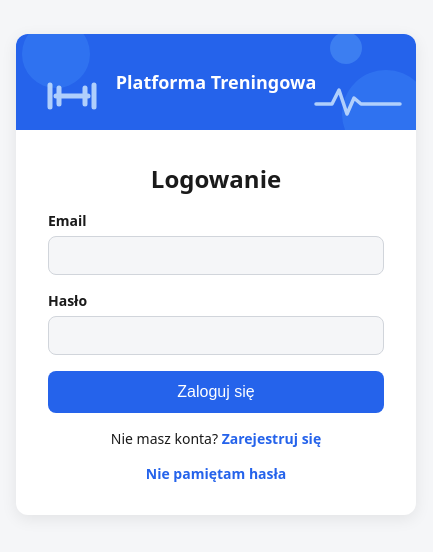
Test: LoginPage › przy 403 informuje o nieaktywnym koncie
The image size is (433, 552).
Step 1. Type "jan@example.com" into the field labelled "Email" → x=216, y=255, box [48,236,384,274]
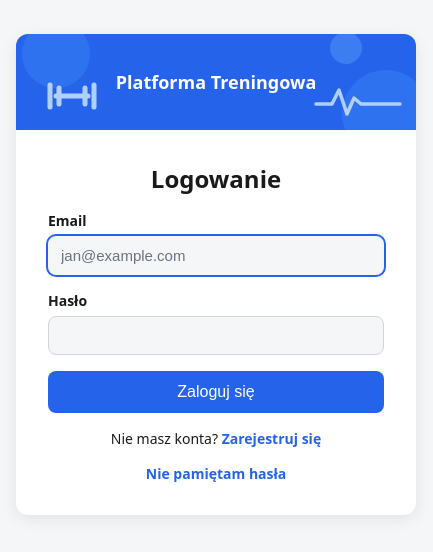
Step 2. Type "haslo123" into the password field labelled "Hasło" → x=216, y=335, box [48,316,384,354]
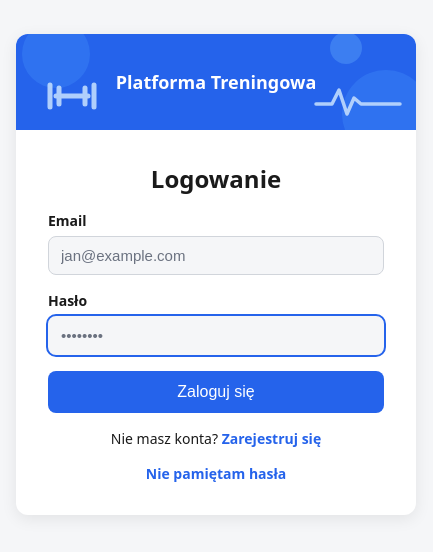
Step 3. Click the button "Zaloguj się" → x=216, y=392, box [48,370,384,412]
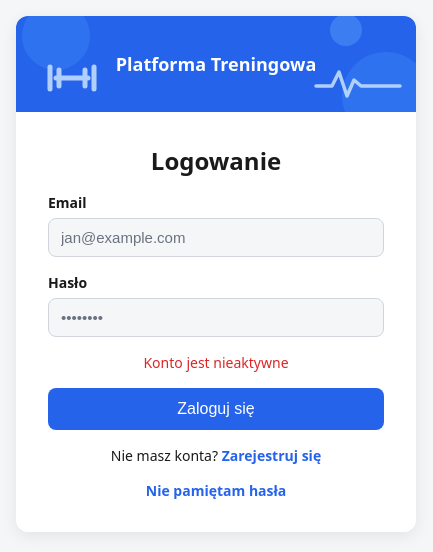
Expected: the text "Konto jest nieaktywne" is shown, [143,353,288,372]
